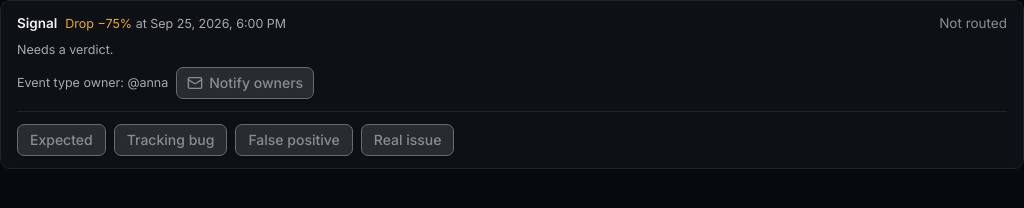
Scenario: SignalVerdictCard owners (F07, #260) › says why an owner inside the manual cooldown was not emailed again
The image size is (1024, 208).
Click the button with aria-label "Notify owners of signup_completed by email". click: (245, 83)
box: top-left (176, 67), bottom-right (314, 99)
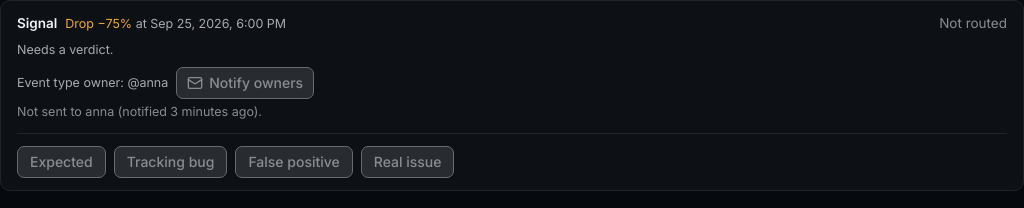
Result: the text "Not sent to anna (notified 3 minutes ago)." is shown at top-left (17, 104), bottom-right (262, 119)
